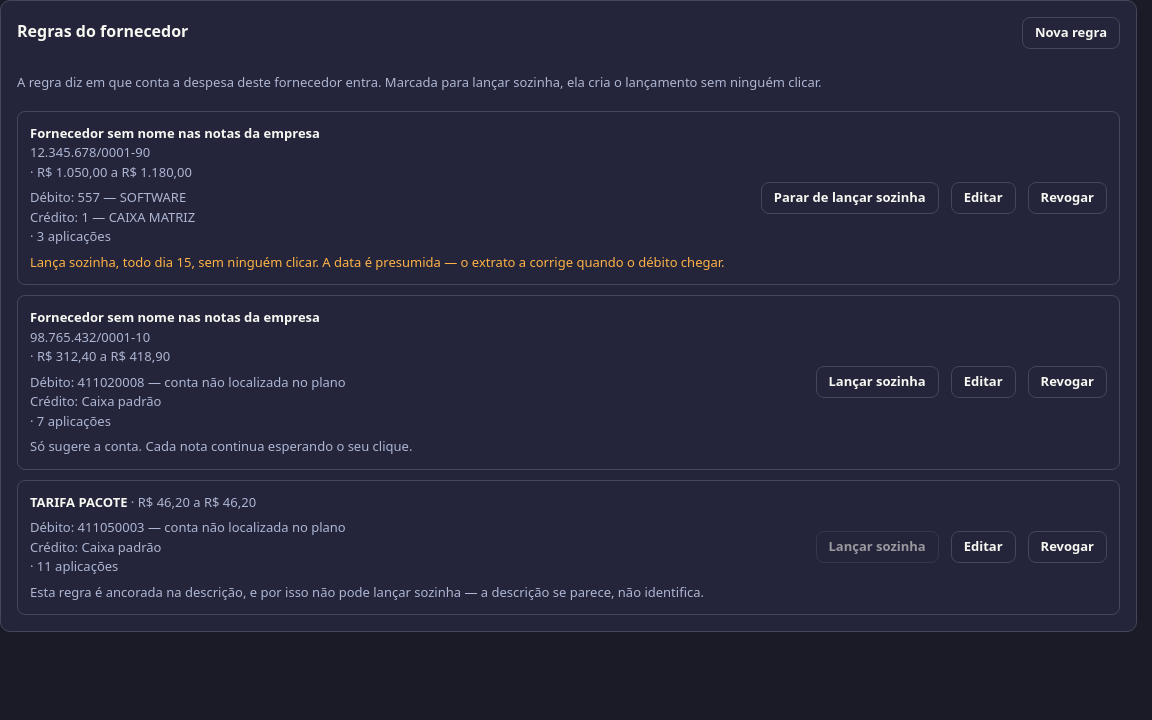
Test case: ⚠⚠ o formulário da regra › ⚠⚠ marcar 'lançar sozinha' pede o DIA, e diz o custo da data fixa
The width and height of the screenshot is (1152, 720).
Click the button "Nova regra" at (1071, 33), box [1022, 17, 1120, 49]
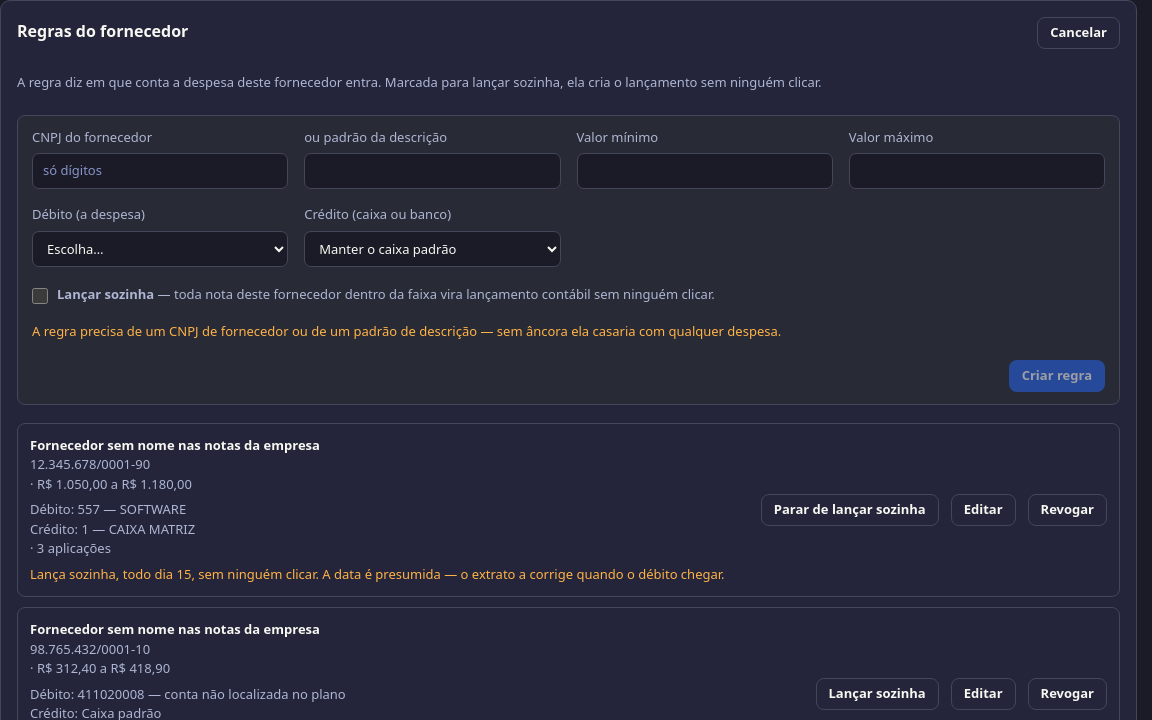
Type "12345678000190" into the field labelled "CNPJ do fornecedor" at (160, 171), box [32, 153, 288, 189]
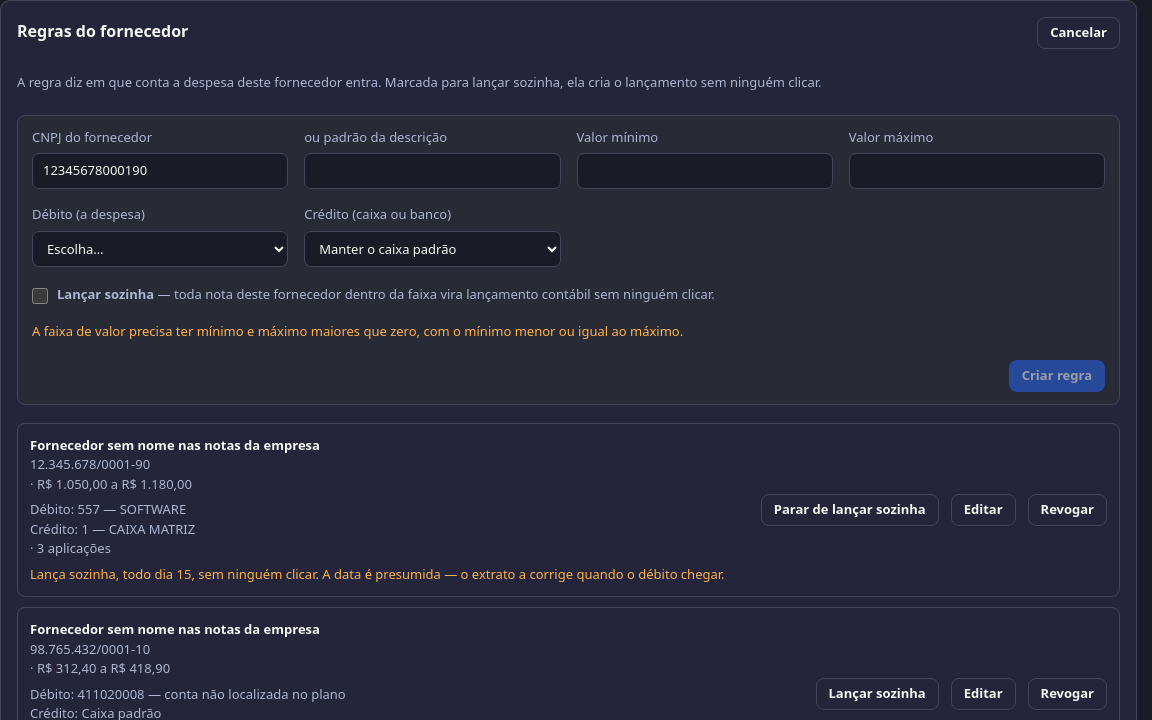
Type "1000" into the field labelled "Valor mínimo" at (705, 171), box [576, 153, 833, 189]
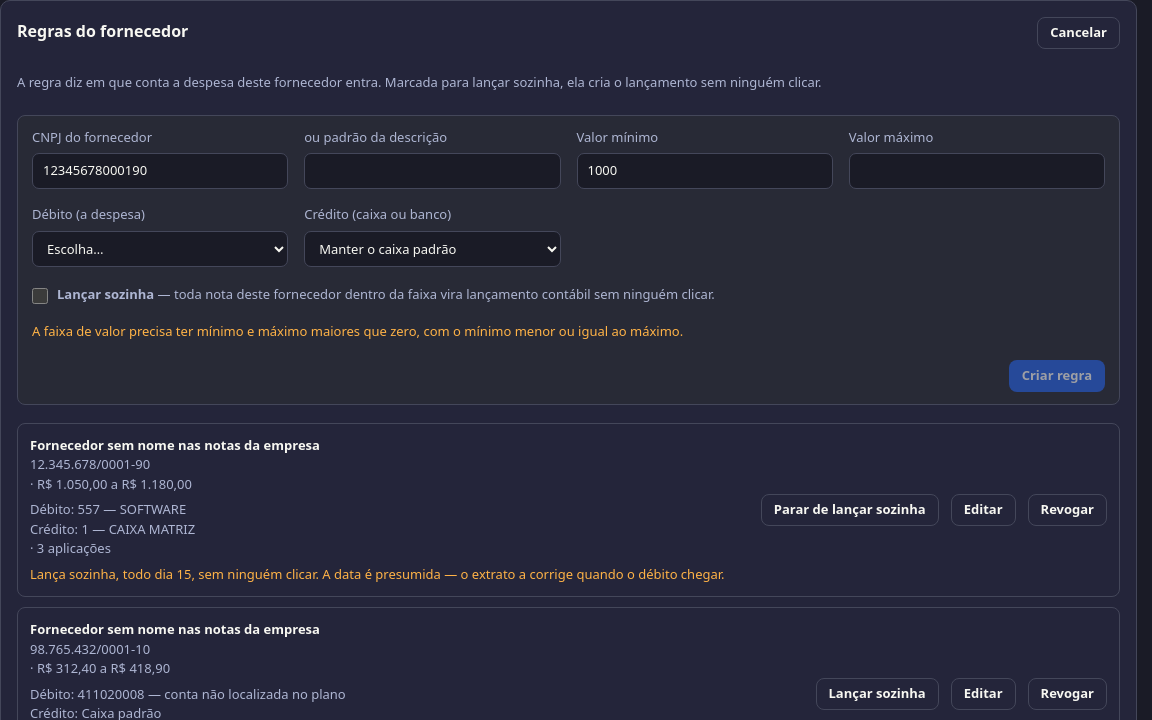
Type "1500" into the field labelled "Valor máximo" at (977, 171), box [849, 153, 1105, 189]
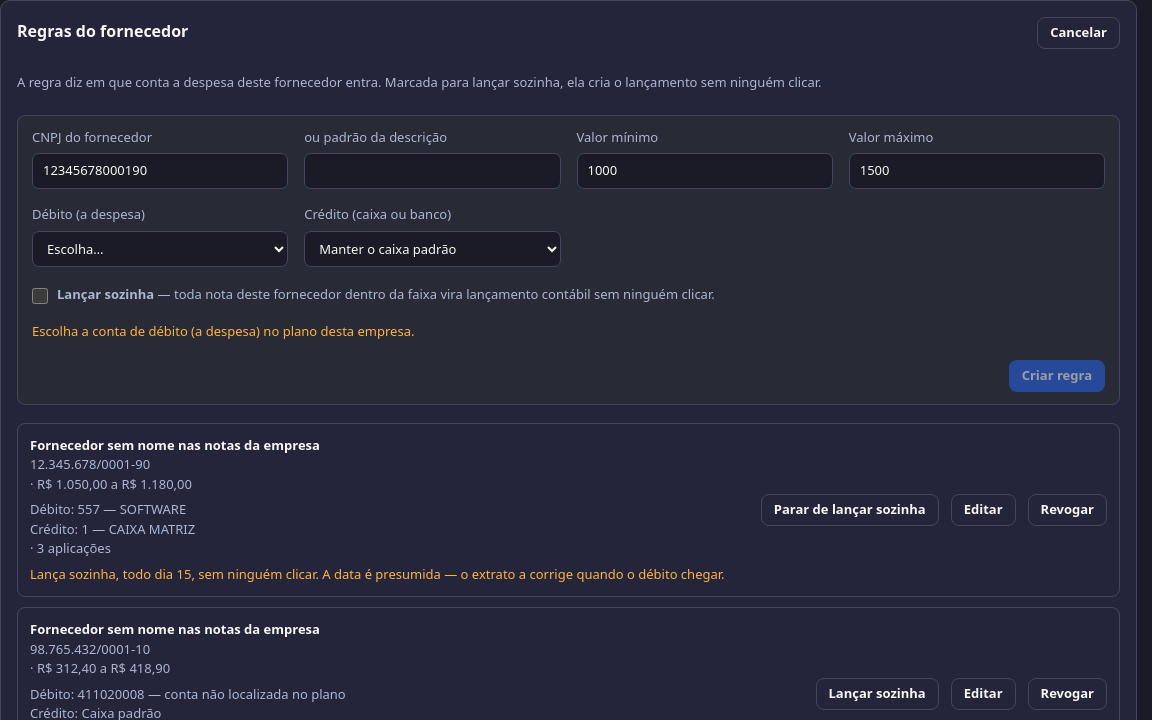
Select "557 — SOFTWARE" in the dropdown labelled "Débito (a despesa)" at (160, 248), box [32, 230, 288, 266]
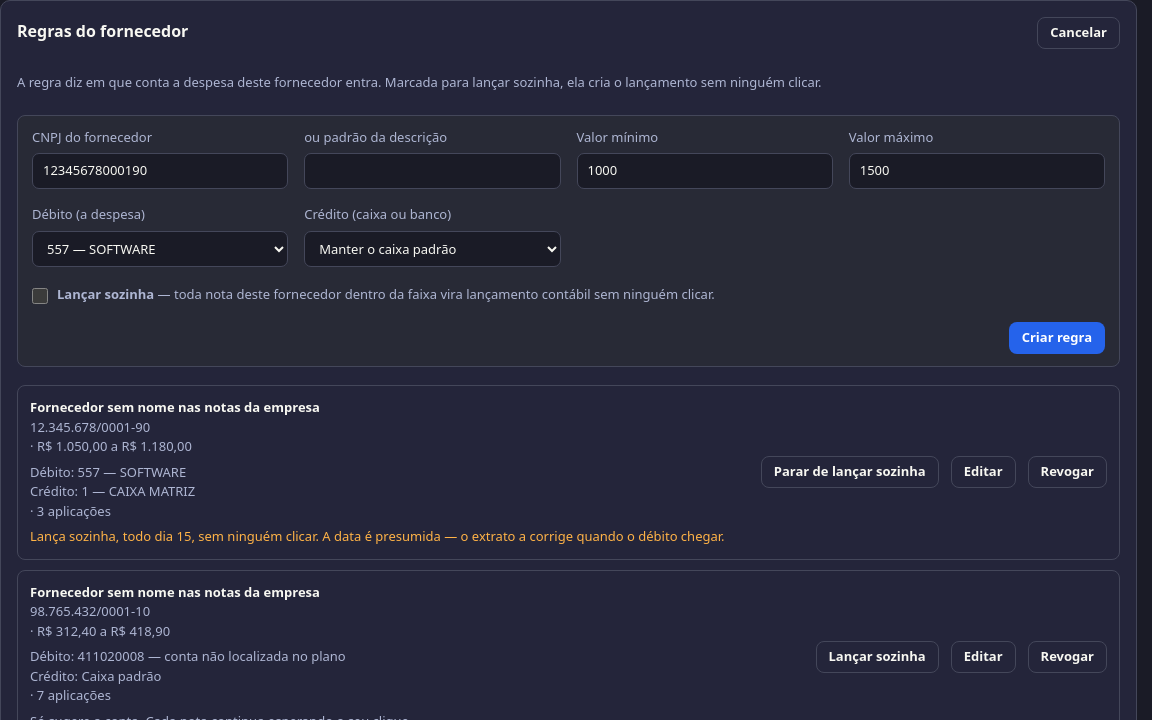
Result: the button "Criar regra" is enabled at [1009, 322, 1105, 354]
Click the checkbox at (40, 296), box [32, 288, 48, 304]
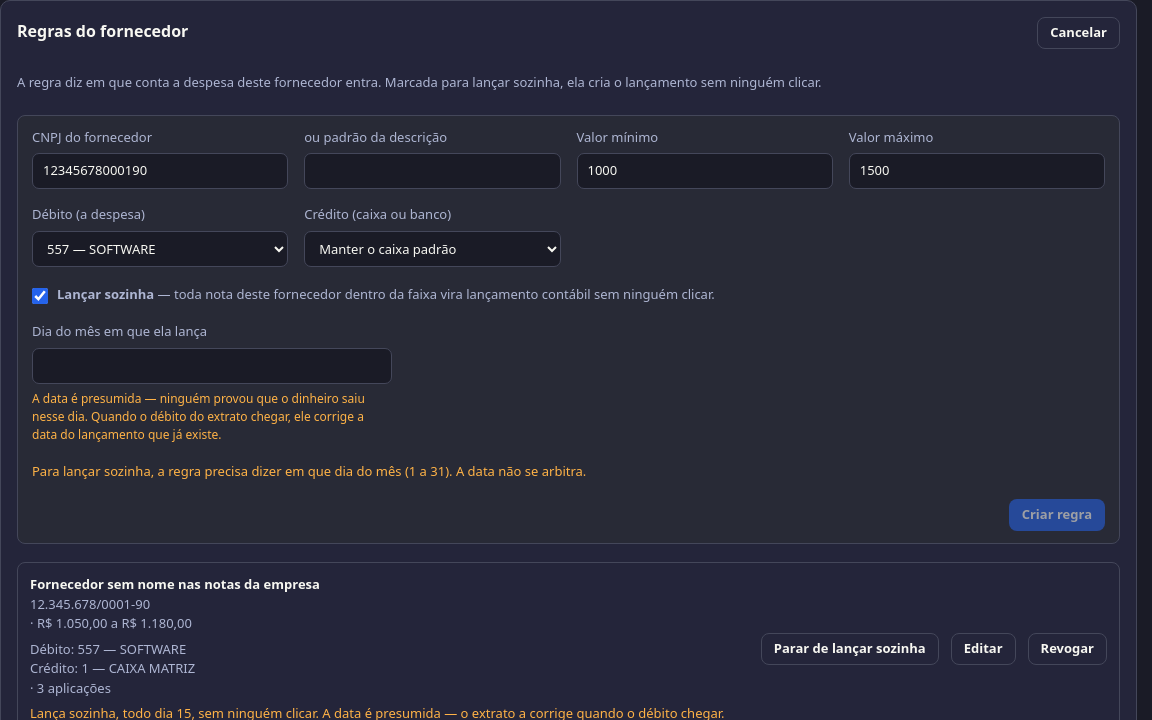
Result: the button "Criar regra" is disabled at [1009, 499, 1105, 531]
Result: the text "em que dia do mês" is shown at [32, 462, 586, 480]
Result: the text "ninguém provou que o dinheiro saiu nesse dia" is shown at [32, 390, 365, 442]
